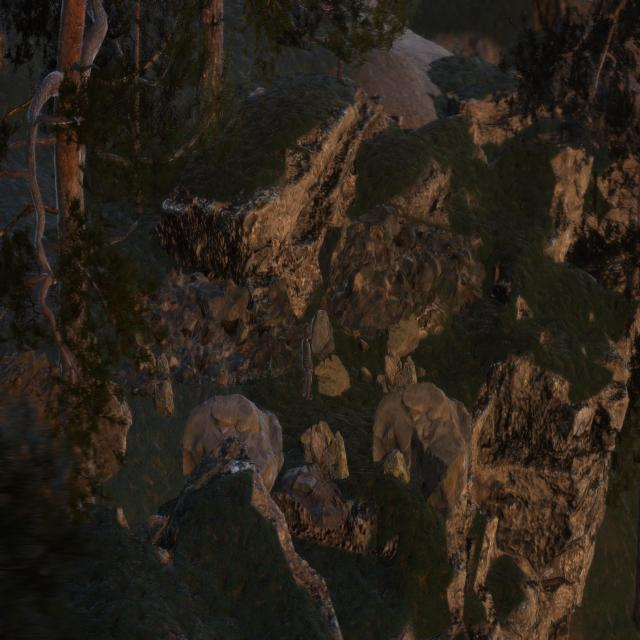Human: (296, 314, 320, 408)
